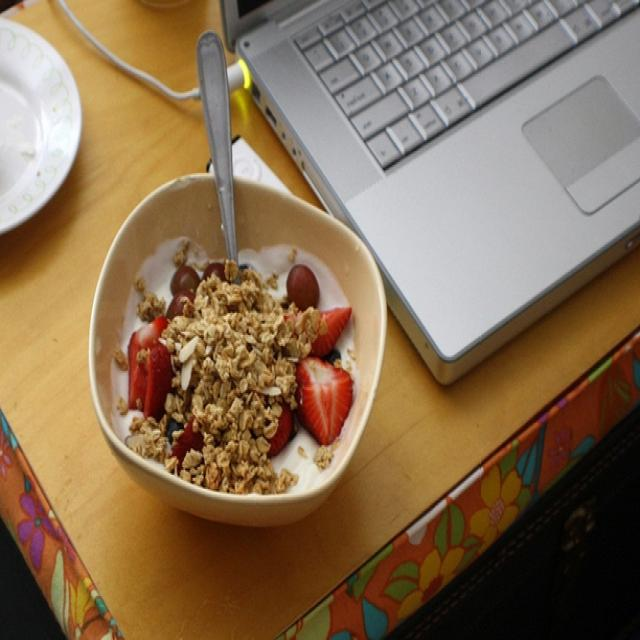蛋糕甜品: (36, 16, 584, 576)
